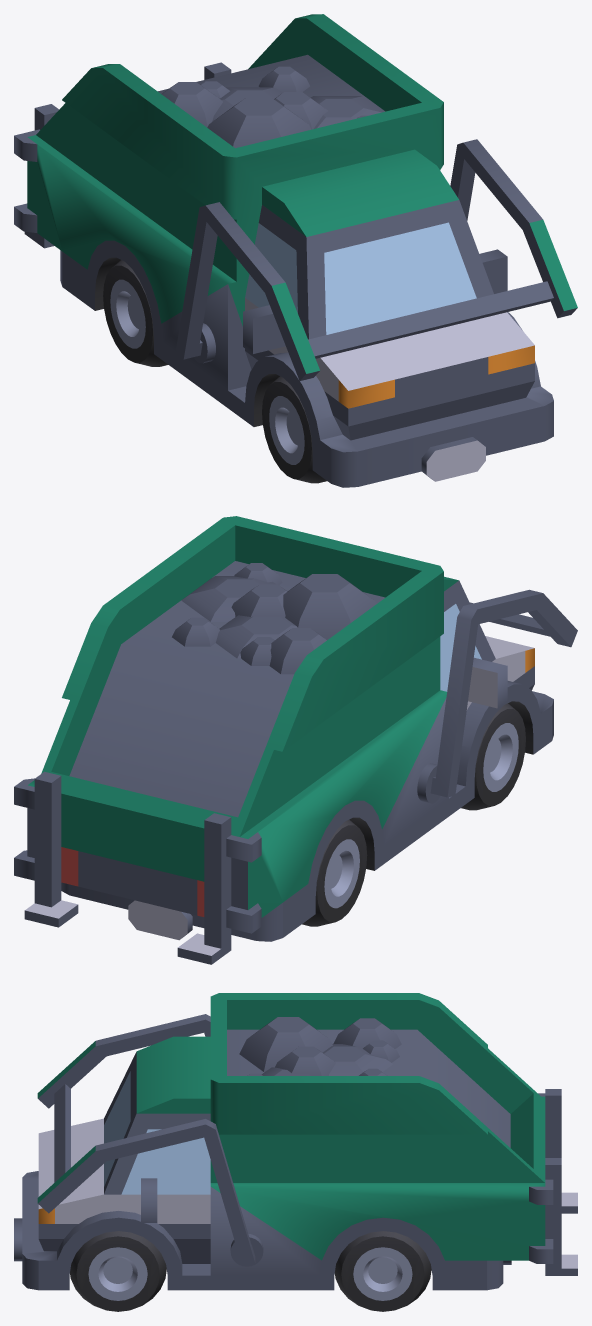
File: vehicle-trash-green.glb
The picture shows the model from 3 angles, top to bottom: view 1: azimuth 30°, elevation 25°; view 2: azimuth 150°, elevation 25°; view 3: azimuth 270°, elevation 25°; orthographic projection. The views are drawn at different scales.
Parts seen in each view (by area): view 1: body, wheel-front-right, wheel-back-right; view 2: body, wheel-front-right, wheel-back-right; view 3: body, wheel-back-left, wheel-front-left.
Part boxes in pixels (left/top/right/bottom): body: left=14, top=14, right=577, bottom=487; wheel-front-right: left=262, top=376, right=326, bottom=483; wheel-back-right: left=103, top=260, right=168, bottom=366; body: left=14, top=516, right=577, bottom=964; wheel-front-right: left=461, top=703, right=525, bottom=810; wheel-back-right: left=302, top=819, right=367, bottom=926; body: left=14, top=993, right=577, bottom=1290; wheel-back-left: left=334, top=1231, right=431, bottom=1311; wheel-front-left: left=70, top=1231, right=166, bottom=1311.
Size of the model in its own units: 1.6 by 1.6 by 3.45.
1 material, 1 textured.
